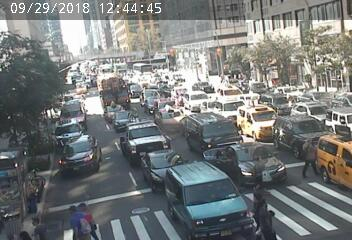car: (175, 167, 233, 227), (69, 141, 106, 180), (244, 110, 283, 147), (125, 123, 163, 152), (233, 150, 268, 180), (285, 119, 318, 148), (192, 119, 231, 142), (99, 74, 130, 98), (328, 143, 350, 173), (147, 151, 172, 174), (64, 102, 89, 124), (304, 100, 327, 119), (161, 108, 185, 126), (57, 122, 82, 139), (213, 100, 238, 114), (178, 91, 205, 103), (267, 94, 289, 107), (115, 112, 132, 125), (222, 102, 240, 114), (333, 111, 347, 126), (102, 102, 118, 115), (158, 99, 177, 109), (71, 79, 86, 91), (218, 86, 235, 95), (142, 91, 158, 98), (197, 81, 209, 89), (145, 100, 153, 105)
